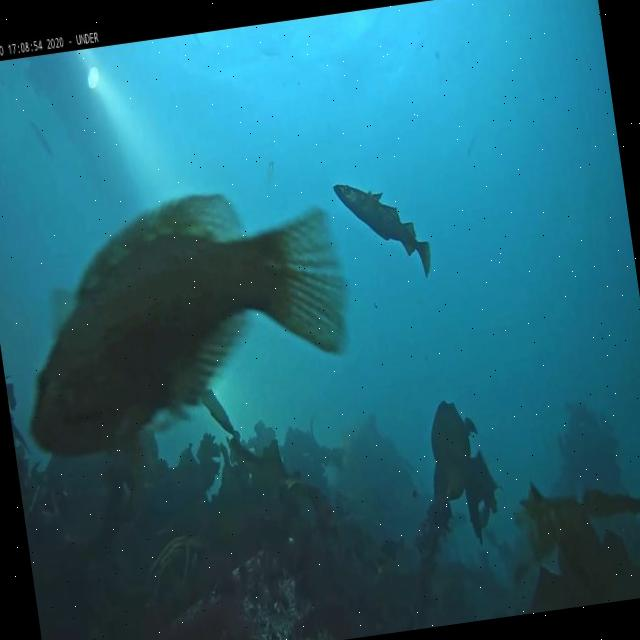fish: (1, 174, 363, 464), (333, 173, 434, 290), (29, 115, 52, 155), (264, 160, 276, 186)
